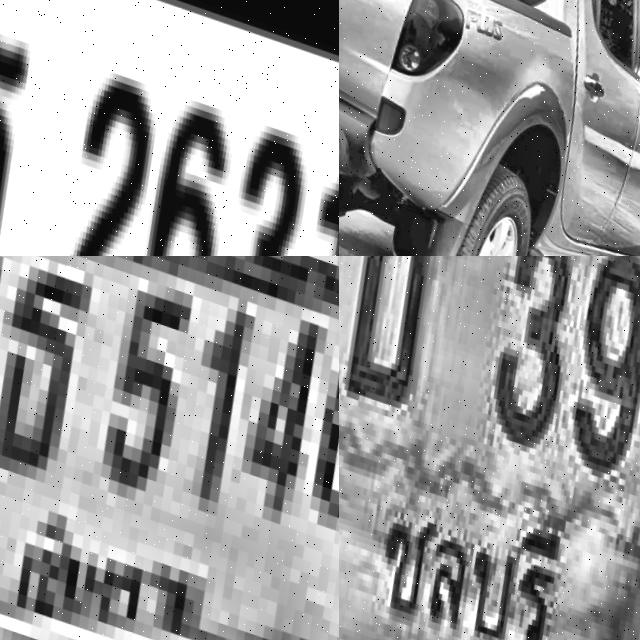license-plate: (0, 256, 339, 640), (339, 256, 640, 640), (0, 0, 339, 256)
